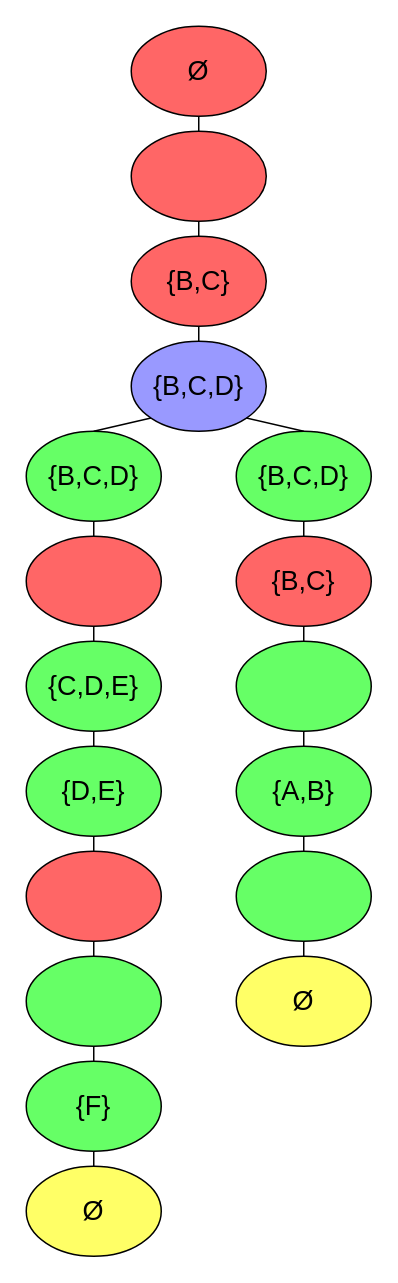
The diagram is 398 pixels wide and 1283 high, and some of its shapes have lost their labels. The shapes that lost their labels are listed below. From the top down, each one's centre as x and y in pixels, then its label:
the point at 198,175: {B}
the point at 93,580: {C,D}
the point at 303,685: {A,B,C}
the point at 93,895: {E}
the point at 303,895: {A}
the point at 93,1000: {E,F}
